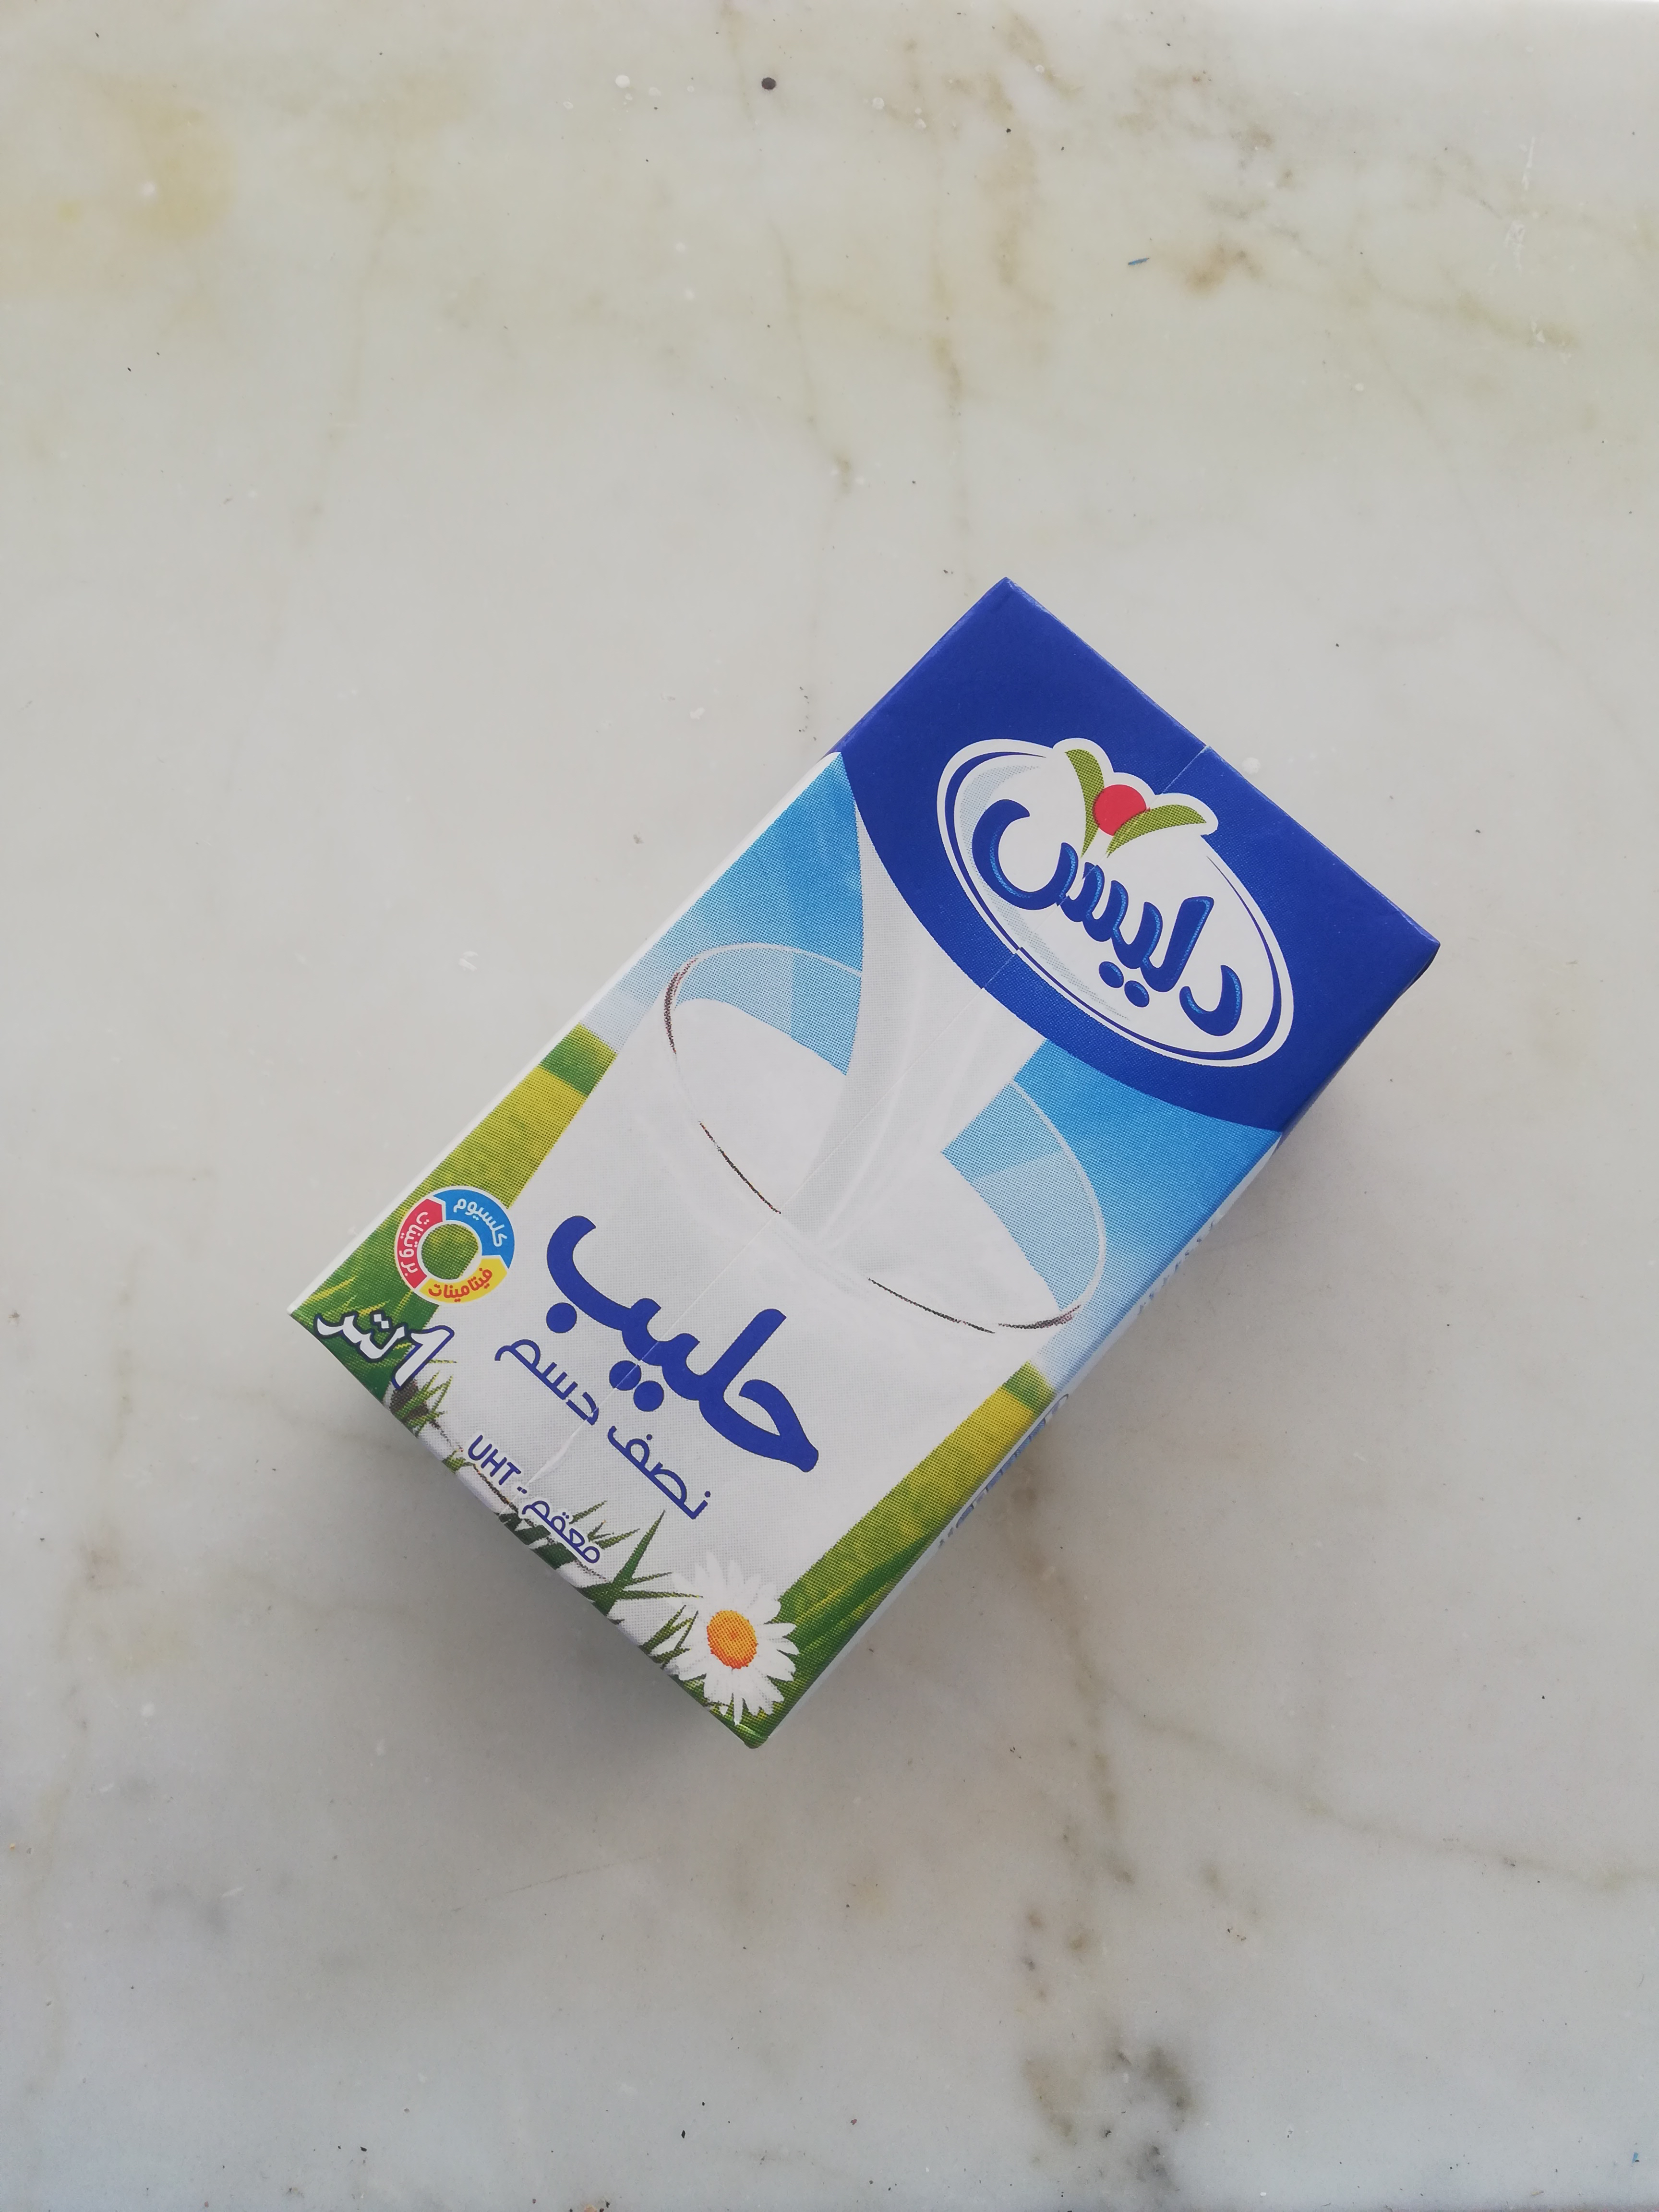Lait delice: (281, 571, 1443, 1743)
